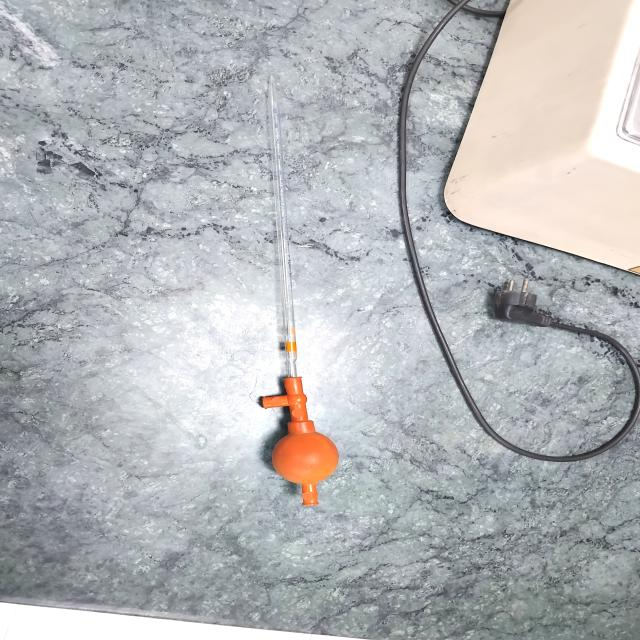Volumetric_Pipet: (224, 68, 358, 516)
